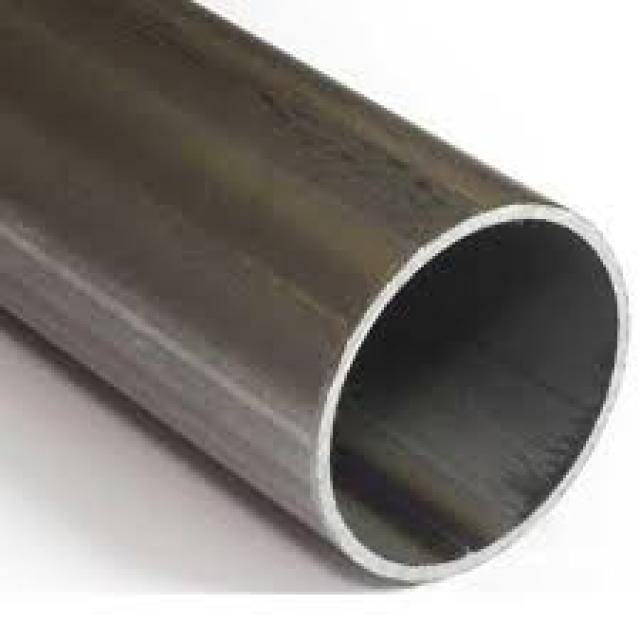pipe: (317, 204, 628, 584)
